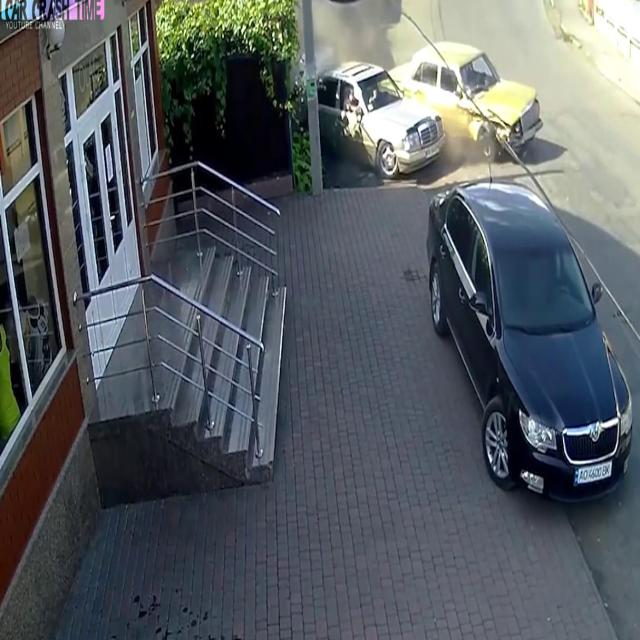accident: (317, 31, 548, 180)
